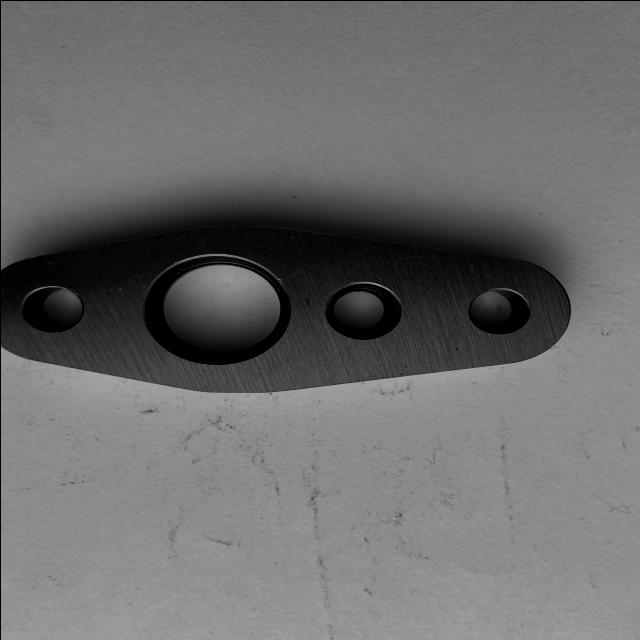chap: (115, 284, 124, 290), (482, 274, 492, 278), (367, 370, 373, 374), (74, 290, 78, 294), (278, 276, 282, 280)
